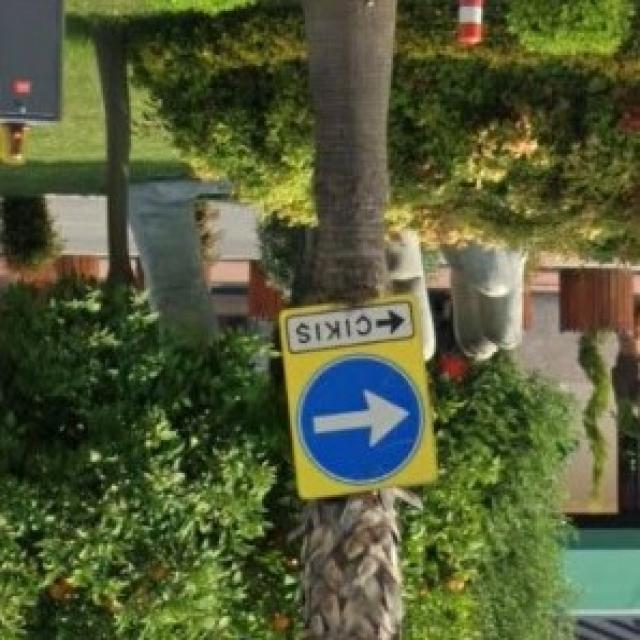Turn Right: (293, 359, 437, 485)
